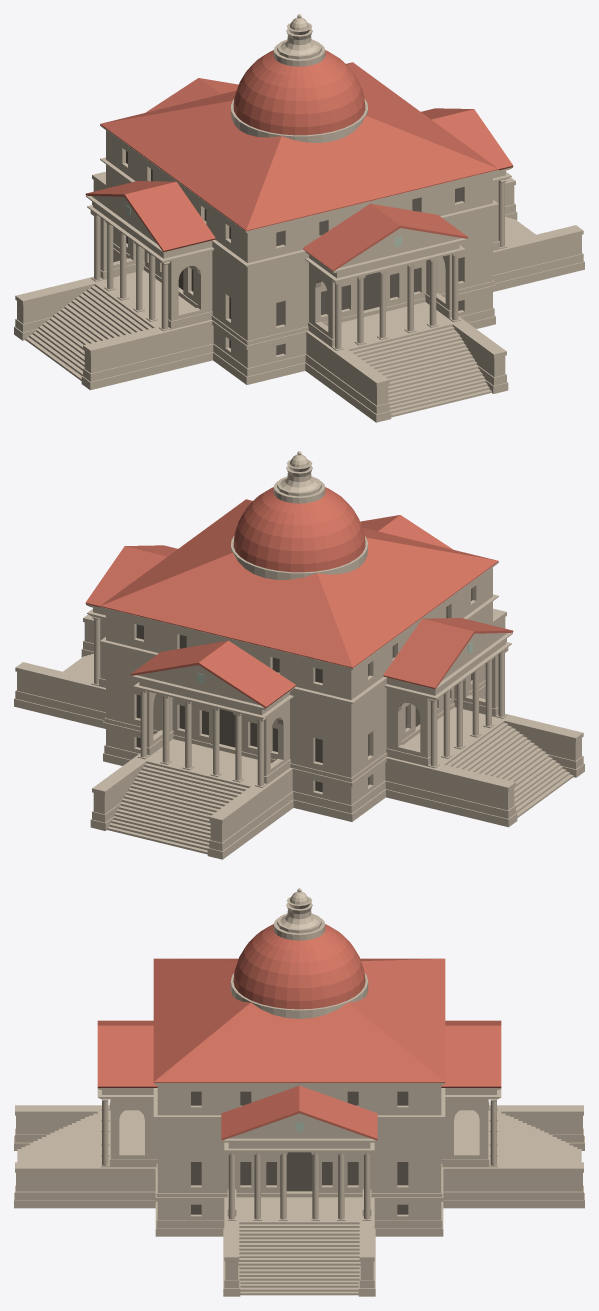
File: Villa Rotonda basic.fbx
3 renders of one model, top to bottom at view 1: azimuth 30°, elevation 25°; view 2: azimuth 150°, elevation 25°; view 3: azimuth 270°, elevation 25°, orthographic.
Parts seen in each view (by area): view 1: roof, base, porch stairs, dome, porch stairs.003, porch pedestal right.003, porch roof, porch roof.003, porch pedestal left.001, porch pedestal left, porch pedestal left.003, porch wall right.003 (+23 smaller); view 2: roof, base, porch stairs.002, dome, porch stairs.003, porch pedestal left.003, porch roof.002, porch roof.003, porch pedestal right.001, porch pedestal right.002, porch pedestal right.003, porch wall left.003 (+23 smaller); view 3: roof, base, porch stairs.001, dome, porch pedestal left.002, porch pedestal right, porch roof.001, porch stairs.002, porch stairs, porch roof.002, porch roof, porch pedestal right.002 (+17 smaller).
Boxes of the visible parts, left/top/right/bottom form: roof: left=100, top=62, right=498, bottom=231; base: left=106, top=130, right=492, bottom=368; porch stairs: left=328, top=303, right=491, bottom=417; dome: left=233, top=50, right=365, bottom=135; porch stairs.003: left=25, top=271, right=195, bottom=380; porch pedestal right.003: left=81, top=320, right=213, bottom=390; porch roof: left=302, top=203, right=467, bottom=271; porch roof.003: left=85, top=181, right=215, bottom=252; porch pedestal left.001: left=493, top=225, right=584, bottom=291; porch pedestal left: left=305, top=331, right=391, bottom=422; porch pedestal left.003: left=14, top=270, right=144, bottom=340; porch wall right.003: left=168, top=251, right=212, bottom=329; roof: left=100, top=499, right=498, bottom=668; base: left=106, top=567, right=492, bottom=805; porch stairs.002: left=107, top=739, right=271, bottom=854; dome: left=233, top=487, right=365, bottom=572; porch stairs.003: left=403, top=708, right=573, bottom=817; porch pedestal left.003: left=385, top=756, right=517, bottom=827; porch roof.002: left=131, top=640, right=296, bottom=708; porch roof.003: left=383, top=618, right=513, bottom=689; porch pedestal right.001: left=14, top=662, right=105, bottom=728; porch pedestal right.002: left=207, top=767, right=293, bottom=859; porch pedestal right.003: left=454, top=707, right=584, bottom=777; porch wall left.003: left=386, top=688, right=430, bottom=766; roof: left=153, top=958, right=445, bottom=1082; base: left=157, top=1085, right=441, bottom=1220; porch stairs.001: left=238, top=1197, right=360, bottom=1295; dome: left=233, top=924, right=365, bottom=1009; porch pedestal left.002: left=442, top=1162, right=584, bottom=1208; porch pedestal right: left=14, top=1162, right=155, bottom=1208; porch roof.001: left=221, top=1085, right=377, bottom=1140; porch stairs.002: left=454, top=1111, right=581, bottom=1162; porch stairs: left=17, top=1111, right=144, bottom=1162; porch roof.002: left=441, top=1020, right=501, bottom=1087; porch roof: left=97, top=1020, right=157, bottom=1087; porch pedestal right.002: left=459, top=1105, right=584, bottom=1150.
Size of the model in its own units: 13300 by 7390 by 13300.
